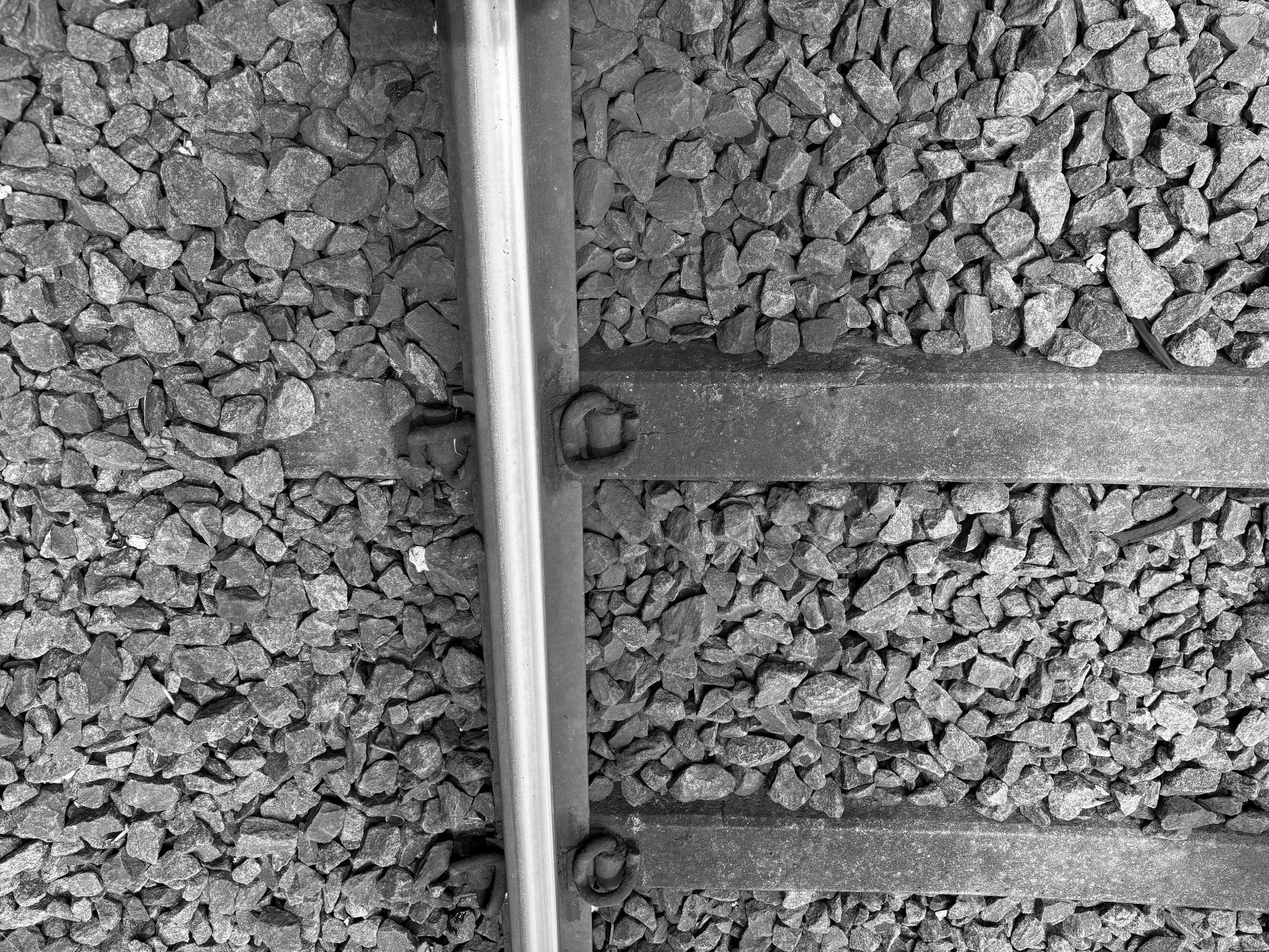cracks in midportion: (629, 352, 895, 455)
